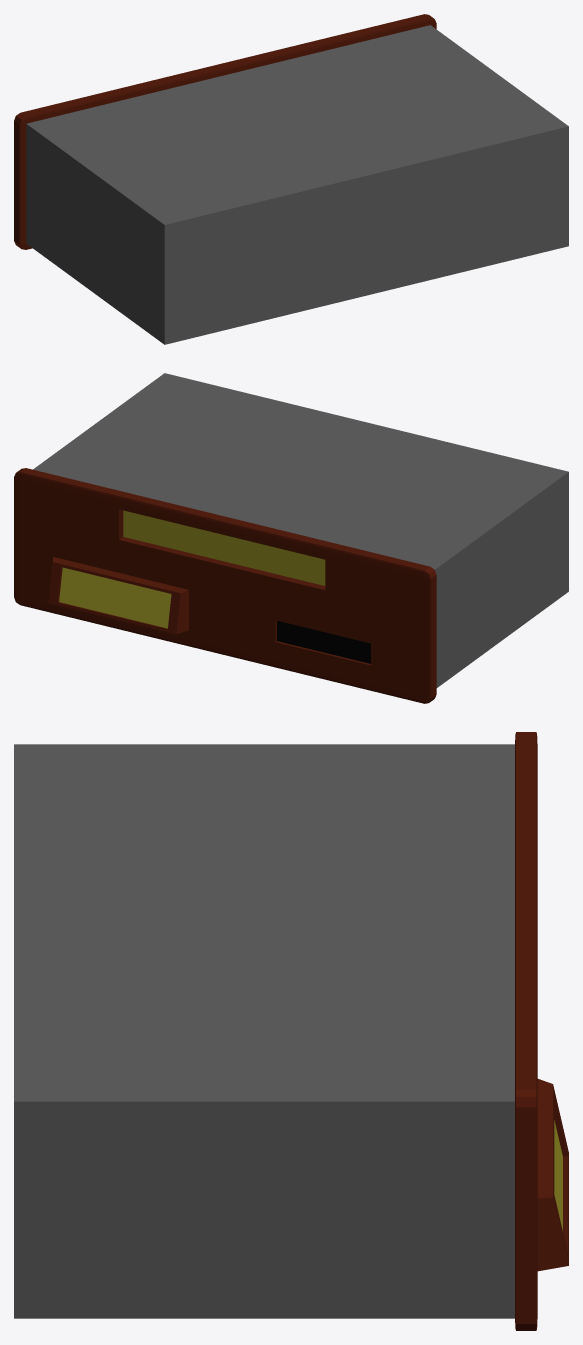
Rendered from Radio.obj.
3 renders of one model, top to bottom at view 1: azimuth 30°, elevation 25°; view 2: azimuth 150°, elevation 25°; view 3: azimuth 270°, elevation 25°, orthographic. The views are drawn at different scales.
Parts seen in each view (by area): view 1: Cube_Cube.001; view 2: Cube_Cube.001; view 3: Cube_Cube.001.
Boxes of the visible parts, x1=… form: Cube_Cube.001: x1=14, y1=14, x2=568, y2=344; Cube_Cube.001: x1=14, y1=373, x2=568, y2=703; Cube_Cube.001: x1=14, y1=732, x2=568, y2=1330.
Bounding box in the file's own units: 6.55 × 2 × 4.17.
